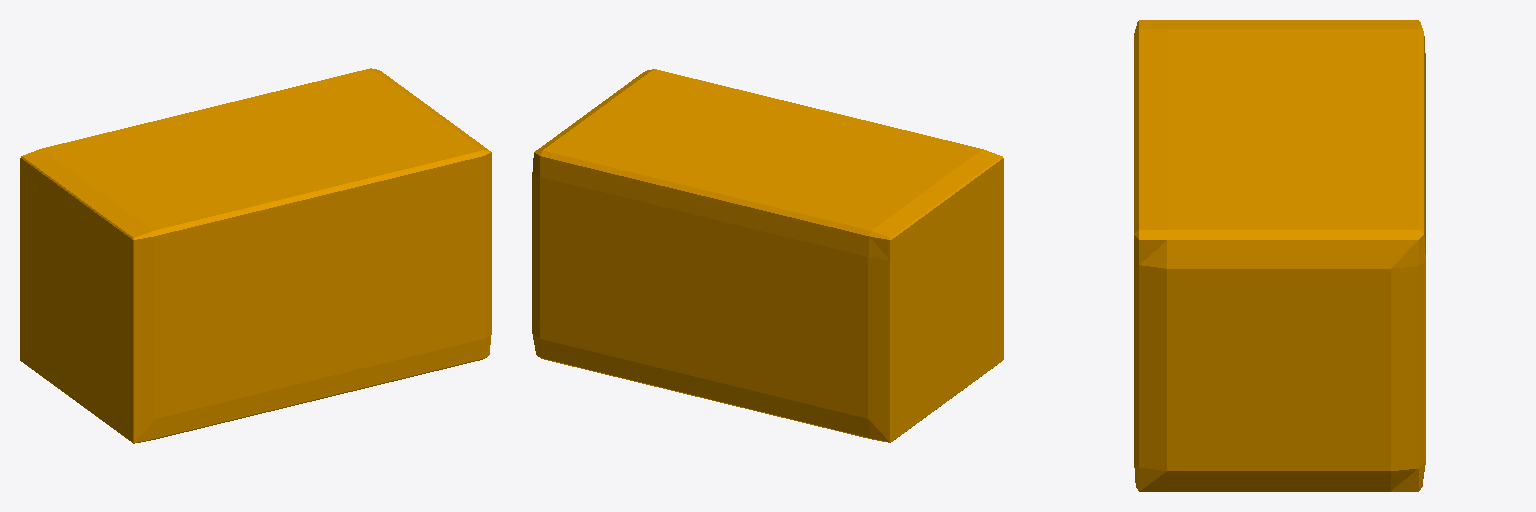
robot.urdf — cylinder_box_4:
<?xml version="1.0" encoding="utf-8"?>  <robot name="cylinder_box_4">   <link name="cylinder_box_4">     <visual>       <geometry>         <mesh filename="../meshes/box/box_4.stl" scale="1 1 1"/>       </geometry>     </visual>     <collision>       <geometry>         <mesh filename="../meshes/box/box_4.stl" scale="1 1 1"/>       </geometry>     </collision>     <inertial>        <origin         xyz="0 0 0"         rpy="0 0 0" />       <mass value="0.25139636415039135"/>       <origin rpy="0 0 0" xyz="0 0 0"/>       <inertia ixx="0.00011190525784375957" ixy="-7.097622095350988e-08" ixz="-9.820482027042811e-08" iyy="0.00023851165622374747" iyz="-1.244895043445311e-08" izz="0.00023995009240757186"/>     </inertial>   </link>  </robot>

--- Render facts (derived) ---
3 views of the same robot in one strip: view 1: azimuth 30°, elevation 25°; view 2: azimuth 150°, elevation 25°; view 3: azimuth 270°, elevation 25° (orthographic).
Robot: cylinder_box_4 — 1 links, 0 joints (none); root link cylinder_box_4; default pose: every joint at zero.
Links seen in each view (by area): view 1: cylinder_box_4; view 2: cylinder_box_4; view 3: cylinder_box_4.
Boxes of the visible links, <box> form: cylinder_box_4: <box>20,68,491,443</box>; cylinder_box_4: <box>532,69,1003,442</box>; cylinder_box_4: <box>1134,20,1425,491</box>.
Bounding box of the posed robot: 0.0941 × 0.0522 × 0.0516 m (x, y, z).
Meshes: 1 distinct files referenced, 1 mesh visuals loaded (1 binary STL).